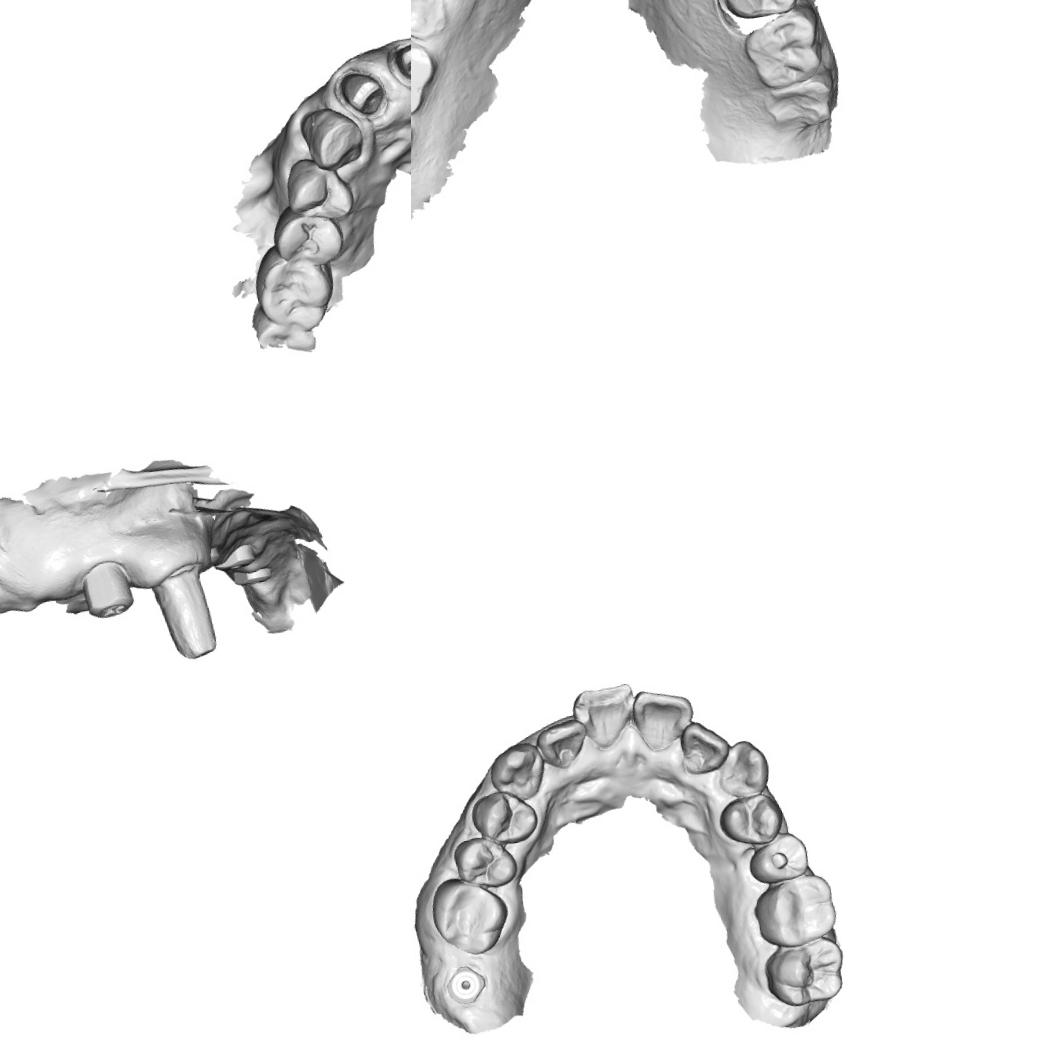canine: (295, 103, 368, 175), (485, 739, 550, 805), (711, 736, 773, 802)
crown: (147, 549, 222, 671), (335, 64, 388, 120), (387, 33, 411, 94)
implant: (442, 961, 490, 1009), (213, 528, 255, 576), (227, 562, 288, 594)
implant_plus: (57, 551, 147, 640)
incisor: (568, 681, 642, 756), (628, 682, 700, 756), (675, 716, 733, 776), (532, 716, 593, 773)
molar: (248, 243, 342, 339), (426, 870, 515, 962), (748, 870, 842, 953), (740, 9, 826, 95), (760, 933, 851, 1012), (411, 20, 444, 124)
premolar: (267, 203, 351, 276), (278, 152, 358, 228), (467, 786, 542, 850), (714, 788, 788, 852), (450, 832, 520, 893), (744, 829, 812, 888), (717, 0, 805, 24), (411, 0, 444, 45)
